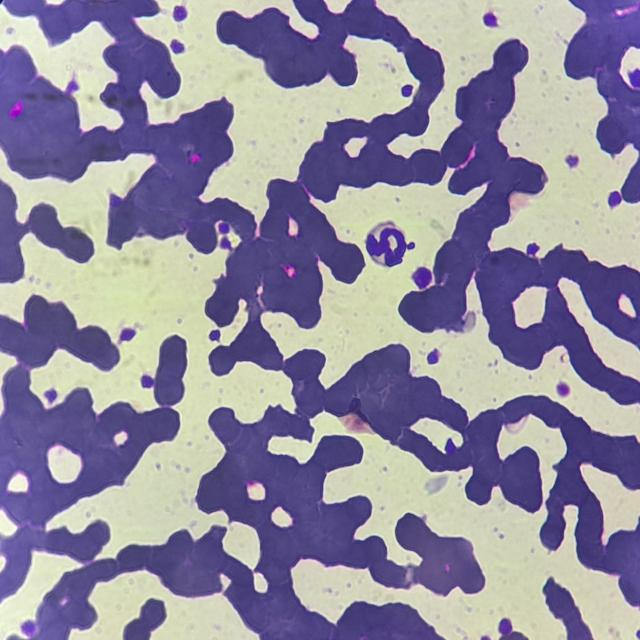Neutrofilo: (364, 219, 406, 266)
